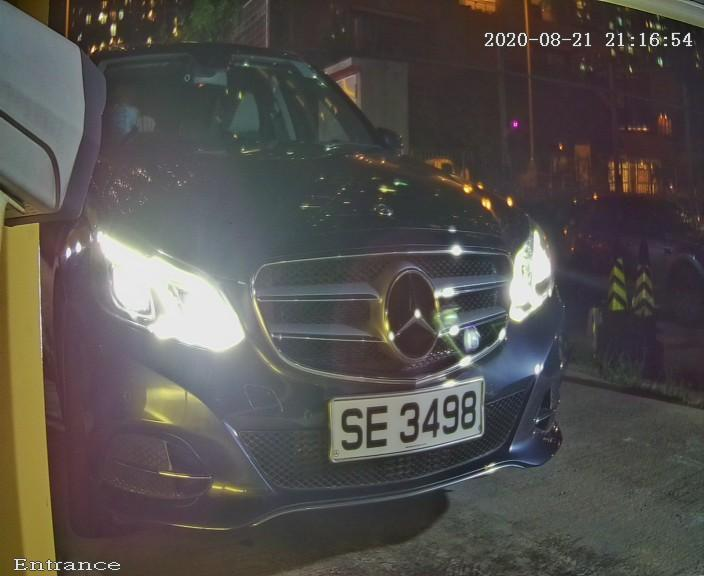Car: (13, 3, 610, 561)
License Plate: (293, 362, 505, 484)
